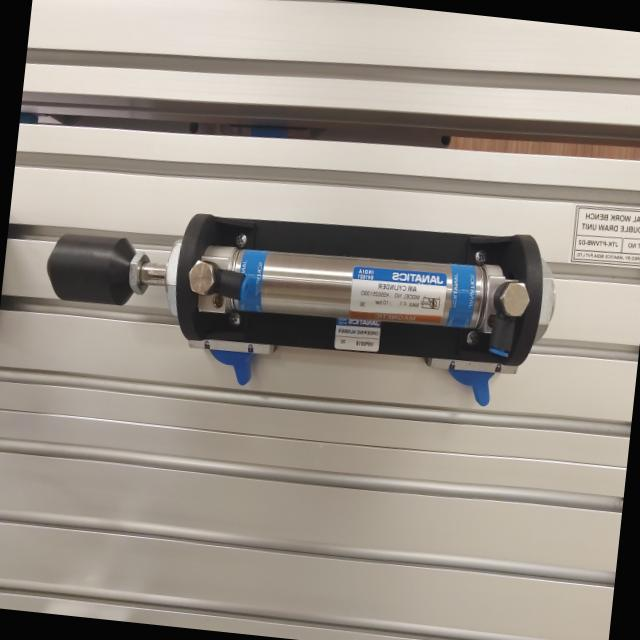double acting pneumatic cylinder: (29, 174, 566, 428)
